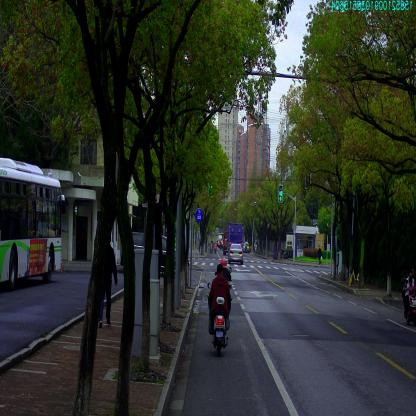traffic-light: (279, 184, 283, 202), (209, 184, 213, 196)
